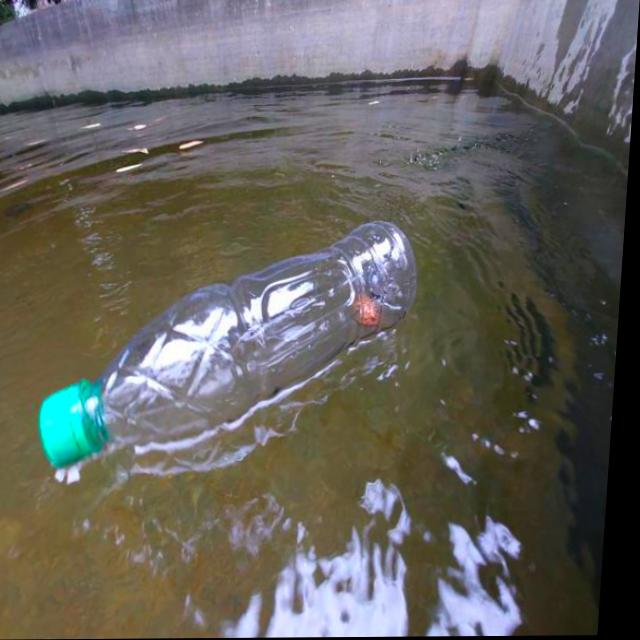waterbottle: (33, 210, 432, 487)
